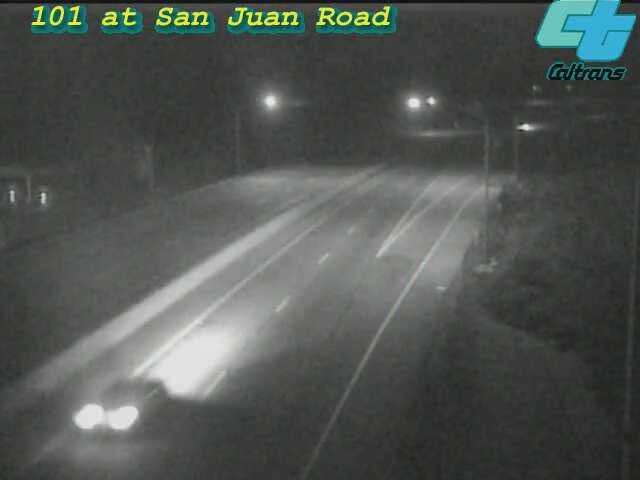vehicle: (73, 343, 183, 453), (501, 101, 551, 151)
